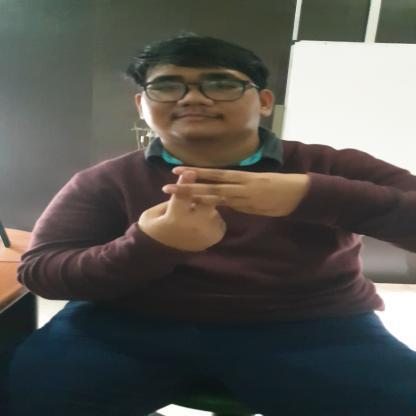B: (131, 165, 302, 252)
